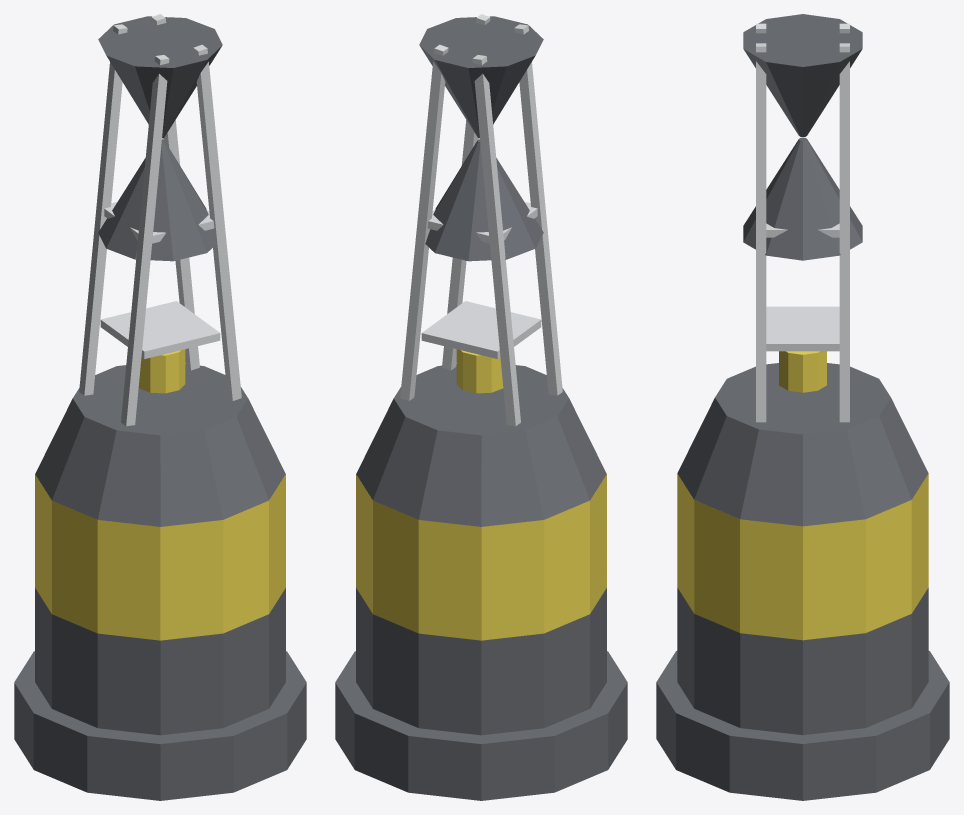
Rendered from marina-and-yacht-club-marina-and-yacht-club-cardinal-m-5622380d__38327.glb.
The picture shows the model from 3 angles, left to right: view 1: azimuth 30°, elevation 25°; view 2: azimuth 150°, elevation 25°; view 3: azimuth 270°, elevation 25°; orthographic projection.
Visible parts, largest first — view 1: marina-and-yacht-club-cardinal-mark-buoy; view 2: marina-and-yacht-club-cardinal-mark-buoy; view 3: marina-and-yacht-club-cardinal-mark-buoy.
Boxes of the visible parts, bbox=[...] form: marina-and-yacht-club-cardinal-mark-buoy: bbox=[14, 14, 306, 800]; marina-and-yacht-club-cardinal-mark-buoy: bbox=[335, 14, 627, 800]; marina-and-yacht-club-cardinal-mark-buoy: bbox=[656, 14, 949, 800].
Size of the model in its own units: 1.4 by 3.71 by 1.4.
